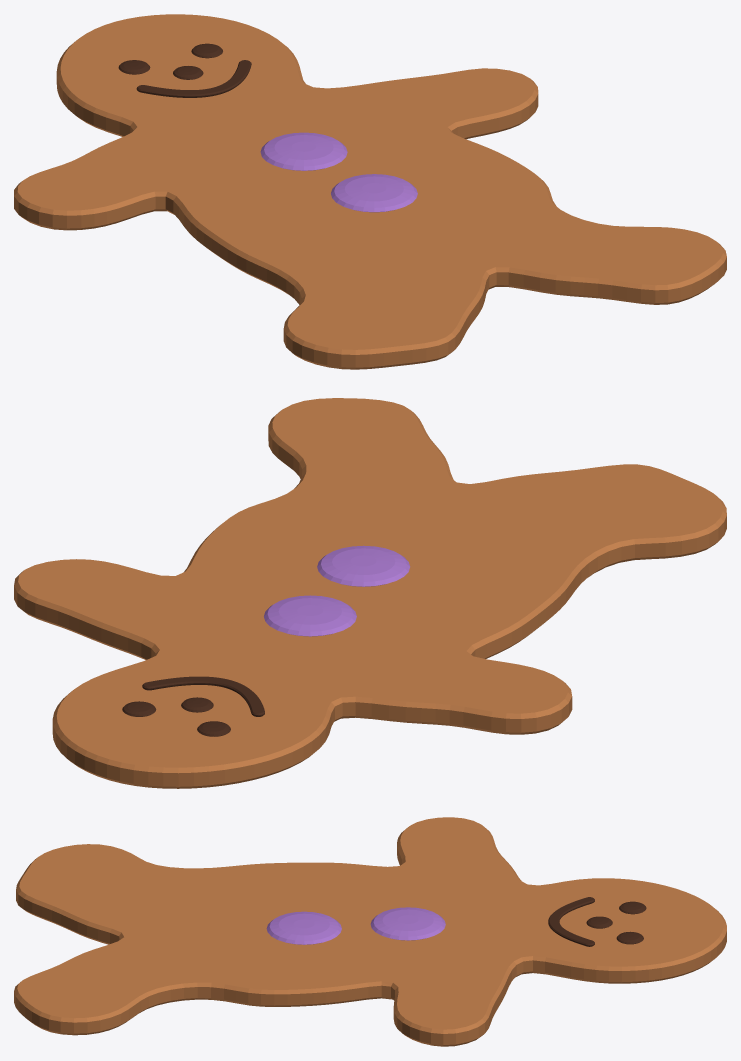
File: NEW587_gingerbread_man_LOD1.glb
3 renders of one model, top to bottom at view 1: azimuth 30°, elevation 25°; view 2: azimuth 150°, elevation 25°; view 3: azimuth 270°, elevation 25°, orthographic. The views are drawn at different scales.
Visible parts, largest first — view 1: Continuous baked biscuit, Lower lentil button, Upper lentil button, Shallow curved chocolate smile; view 2: Continuous baked biscuit, Upper lentil button, Lower lentil button, Shallow curved chocolate smile; view 3: Continuous baked biscuit, Upper lentil button, Lower lentil button, Shallow curved chocolate smile.
Part boxes in pixels (x1=…): Continuous baked biscuit: x1=14, y1=14, x2=726, y2=369; Lower lentil button: x1=331, y1=174, x2=417, y2=212; Upper lentil button: x1=260, y1=132, x2=347, y2=170; Shallow curved chocolate smile: x1=136, y1=60, x2=251, y2=97; Continuous baked biscuit: x1=14, y1=398, x2=726, y2=788; Upper lentil button: x1=264, y1=595, x2=356, y2=636; Lower lentil button: x1=317, y1=545, x2=410, y2=586; Shallow curved chocolate smile: x1=142, y1=676, x2=264, y2=716; Continuous baked biscuit: x1=14, y1=817, x2=726, y2=1046; Upper lentil button: x1=370, y1=907, x2=445, y2=940; Lower lentil button: x1=266, y1=911, x2=341, y2=944; Shallow curved chocolate smile: x1=548, y1=897, x2=594, y2=946.
Size of the model in its own units: 0.1 by 0.005 by 0.14.
